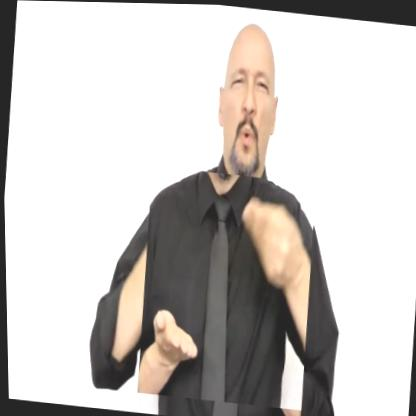Expensive: (132, 165, 319, 409)
